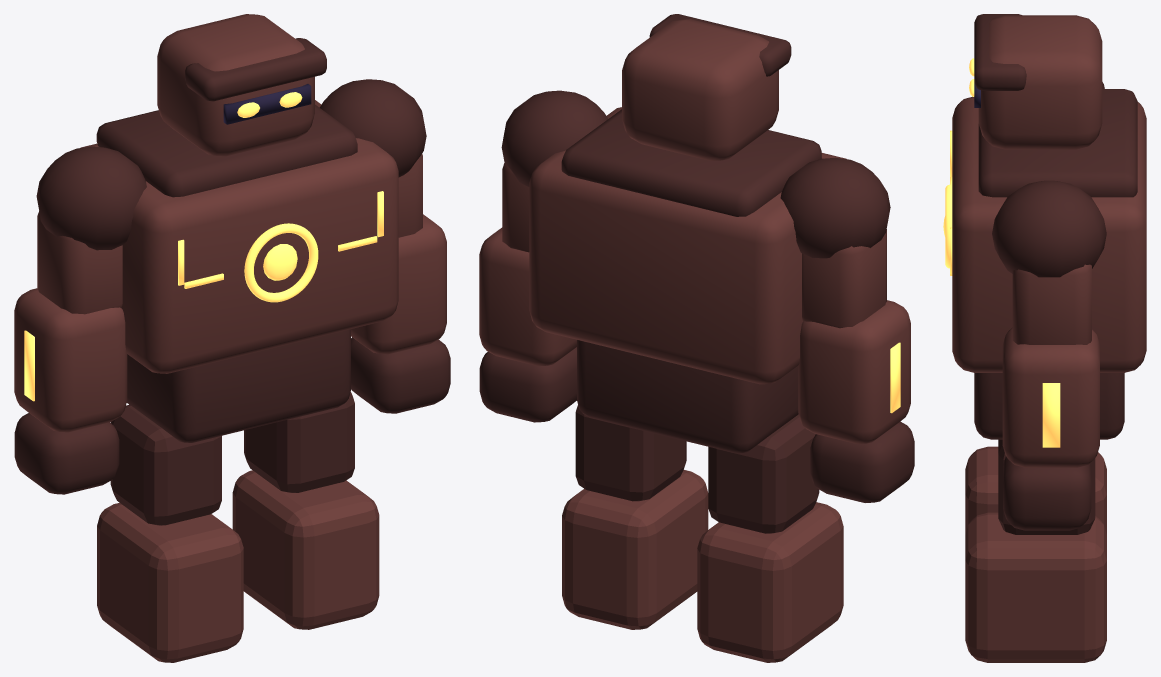
The model's file is golem_forge.glb.
3 renders of one model, left to right at view 1: azimuth 30°, elevation 25°; view 2: azimuth 150°, elevation 25°; view 3: azimuth 270°, elevation 25°, orthographic.
Parts seen in each view (by area): view 1: golem_forge:body.mesh, golem_forge:foreL.mesh, golem_forge:shinL.mesh, golem_forge:head.mesh, golem_forge:shinR.mesh, golem_forge:armL.mesh, golem_forge:foreR.mesh, golem_forge:legL.mesh, golem_forge:legR.mesh, golem_forge:armR.mesh; view 2: golem_forge:body.mesh, golem_forge:foreL.mesh, golem_forge:head.mesh, golem_forge:shinL.mesh, golem_forge:shinR.mesh, golem_forge:armL.mesh, golem_forge:foreR.mesh, golem_forge:legL.mesh, golem_forge:armR.mesh, golem_forge:legR.mesh; view 3: golem_forge:body.mesh, golem_forge:shinR.mesh, golem_forge:foreR.mesh, golem_forge:head.mesh, golem_forge:armR.mesh, golem_forge:shinL.mesh, golem_forge:legR.mesh.
Part boxes in pixels (<box>): golem_forge:body.mesh: <box>80,100,398,442</box>; golem_forge:foreL.mesh: <box>14,288,127,494</box>; golem_forge:shinL.mesh: <box>97,502,243,662</box>; golem_forge:head.mesh: <box>157,14,326,156</box>; golem_forge:shinR.mesh: <box>232,470,379,629</box>; golem_forge:armL.mesh: <box>36,146,146,314</box>; golem_forge:foreR.mesh: <box>351,214,450,413</box>; golem_forge:legL.mesh: <box>110,404,221,525</box>; golem_forge:legR.mesh: <box>244,392,354,492</box>; golem_forge:armR.mesh: <box>319,79,426,237</box>; golem_forge:body.mesh: <box>529,107,846,453</box>; golem_forge:foreL.mesh: <box>798,300,914,502</box>; golem_forge:head.mesh: <box>622,14,791,160</box>; golem_forge:shinL.mesh: <box>697,502,843,662</box>; golem_forge:shinR.mesh: <box>562,470,708,629</box>; golem_forge:armL.mesh: <box>780,158,890,328</box>; golem_forge:foreR.mesh: <box>479,227,576,422</box>; golem_forge:legL.mesh: <box>708,414,819,533</box>; golem_forge:armR.mesh: <box>501,90,607,252</box>; golem_forge:legR.mesh: <box>575,405,686,501</box>; golem_forge:body.mesh: <box>943,89,1146,439</box>; golem_forge:shinR.mesh: <box>965,512,1106,662</box>; golem_forge:foreR.mesh: <box>1002,327,1099,530</box>; golem_forge:head.mesh: <box>969,14,1102,149</box>; golem_forge:armR.mesh: <box>992,180,1106,344</box>; golem_forge:shinL.mesh: <box>965,446,1106,534</box>; golem_forge:legR.mesh: <box>998,439,1095,534</box>.
Bounding box in the file's own units: 1.06 × 1.45 × 0.46.
